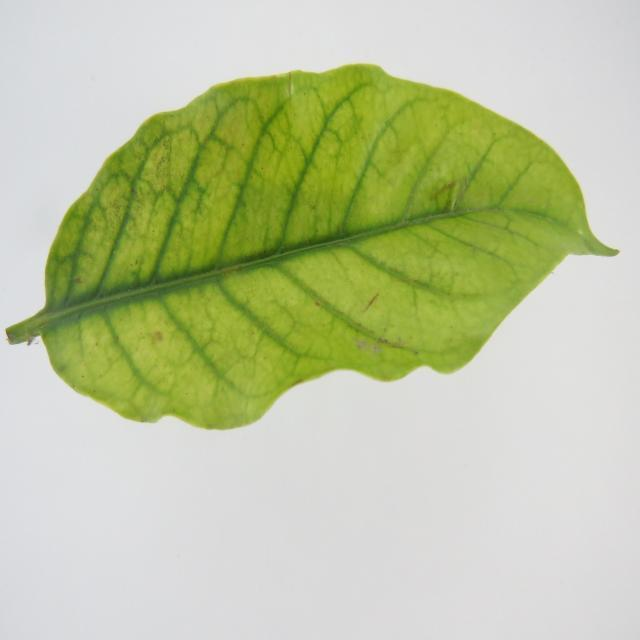DeficienciaNutricional-Hierro: (10, 70, 599, 426)
